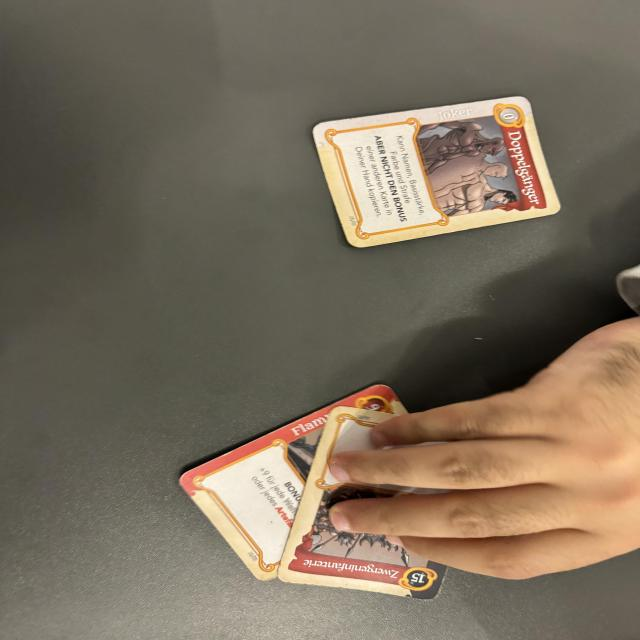Doppelganger: (308, 95, 564, 250)
